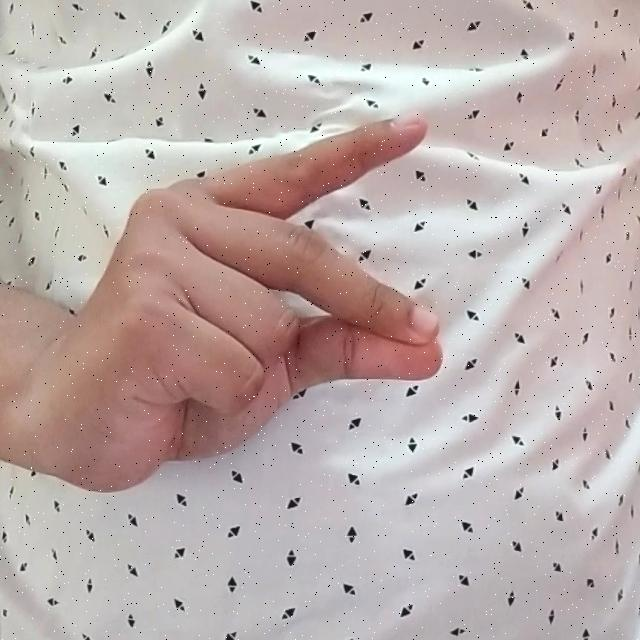R: (34, 101, 477, 518)
